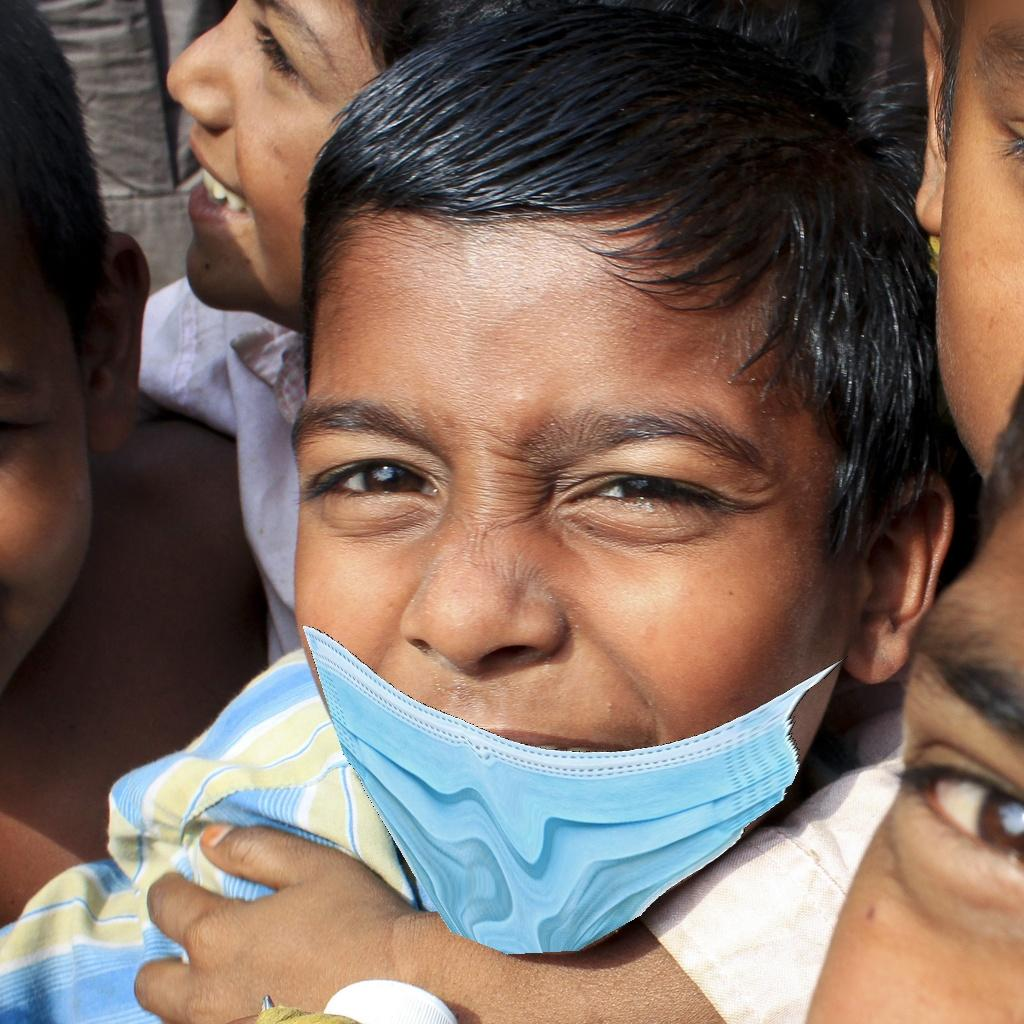Máscara Incorreta: (252, 221, 852, 932)
Sem Máscara: (167, 0, 407, 322)
